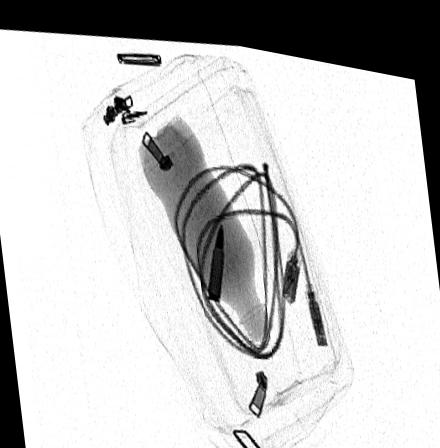Bullet: (204, 209, 224, 296)
